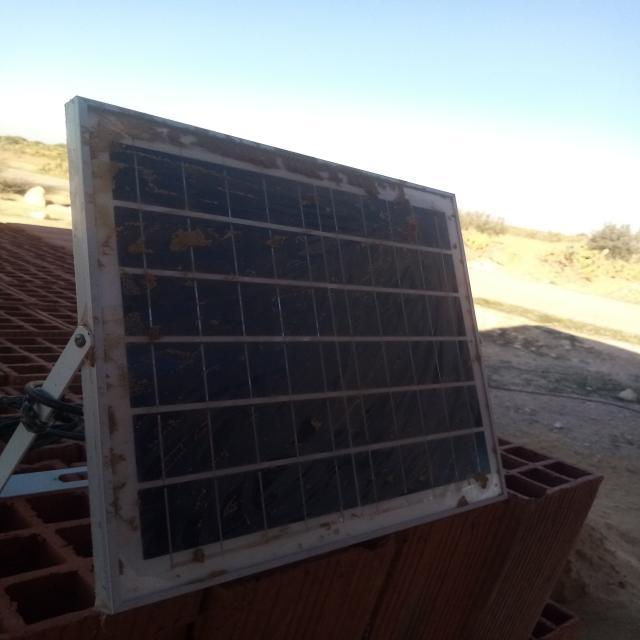faulty: (78, 103, 507, 609)
